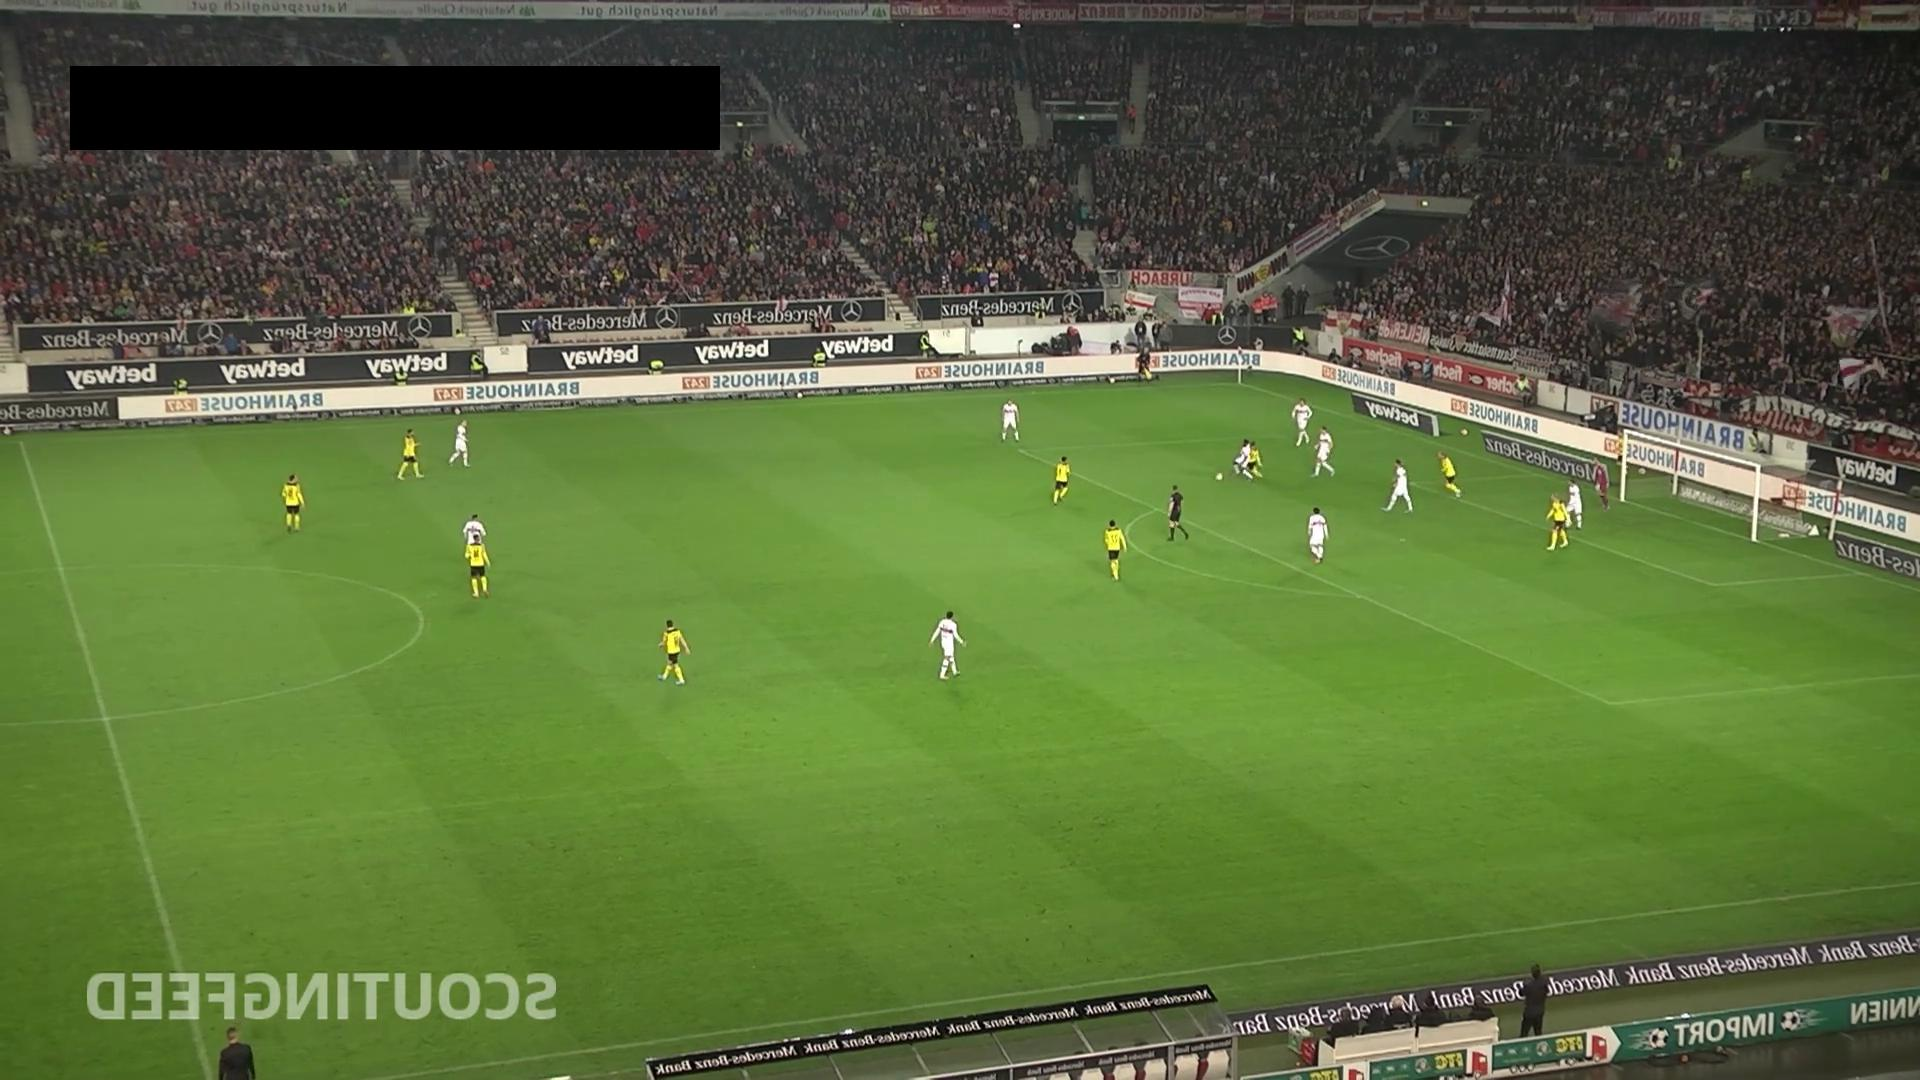ball: (1213, 471, 1224, 483)
goalkeeper: (1592, 461, 1610, 511)
player: (928, 609, 967, 680), (656, 618, 691, 685), (464, 532, 491, 599), (1382, 458, 1414, 513), (462, 513, 490, 573), (395, 427, 424, 480), (1545, 493, 1570, 551), (281, 473, 305, 533), (1103, 519, 1126, 581), (1307, 506, 1330, 565), (1436, 449, 1462, 498), (1312, 426, 1335, 478), (447, 418, 471, 467), (1291, 396, 1314, 447), (1052, 455, 1071, 505), (1001, 397, 1021, 443), (1233, 439, 1254, 482), (1566, 481, 1583, 530), (1244, 440, 1264, 479)
referee: (1166, 485, 1190, 541), (1136, 345, 1152, 385)
